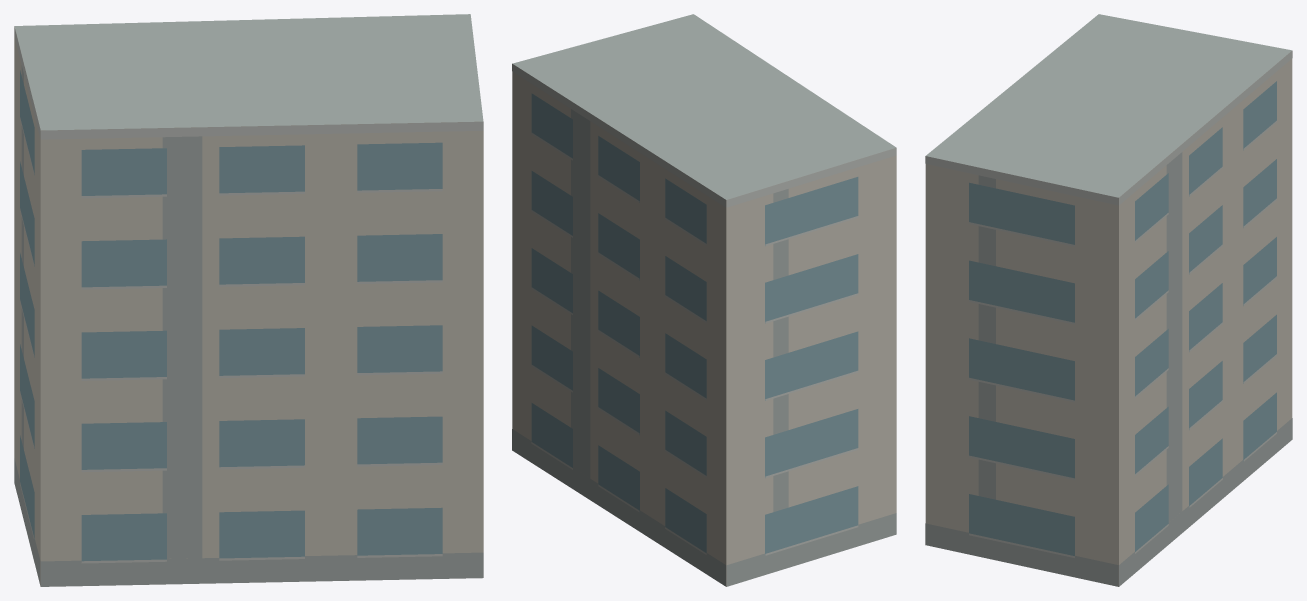
File: survey-upis-32726270.glb
3 renders of one model, left to right at view 1: azimuth 30°, elevation 25°; view 2: azimuth 150°, elevation 25°; view 3: azimuth 270°, elevation 25°, orthographic. The views are drawn at different scales.
Parts seen in each view (by area): view 1: survey-upis-32726270.tmp; view 2: survey-upis-32726270.tmp; view 3: survey-upis-32726270.tmp.
Boxes of the visible parts, bbox=[...] form: survey-upis-32726270.tmp: bbox=[14, 14, 483, 586]; survey-upis-32726270.tmp: bbox=[512, 14, 896, 586]; survey-upis-32726270.tmp: bbox=[925, 14, 1292, 586].
Size of the model in its own units: 12.26 by 12.1 by 10.35.
